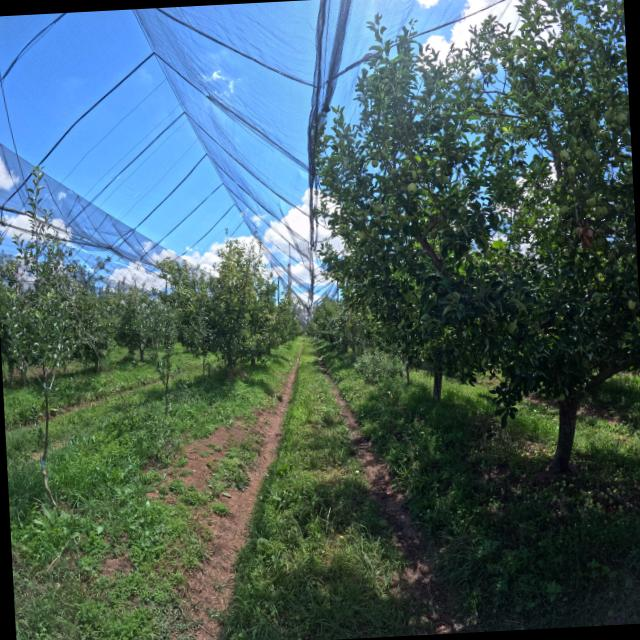-FireBlight-: (578, 230, 598, 248)
